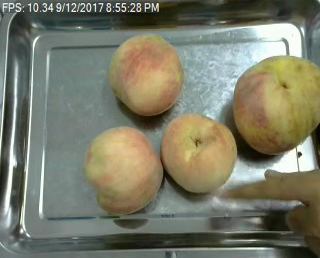Peach: (232, 54, 319, 155), (83, 126, 164, 214), (107, 33, 184, 115), (162, 111, 238, 194)
